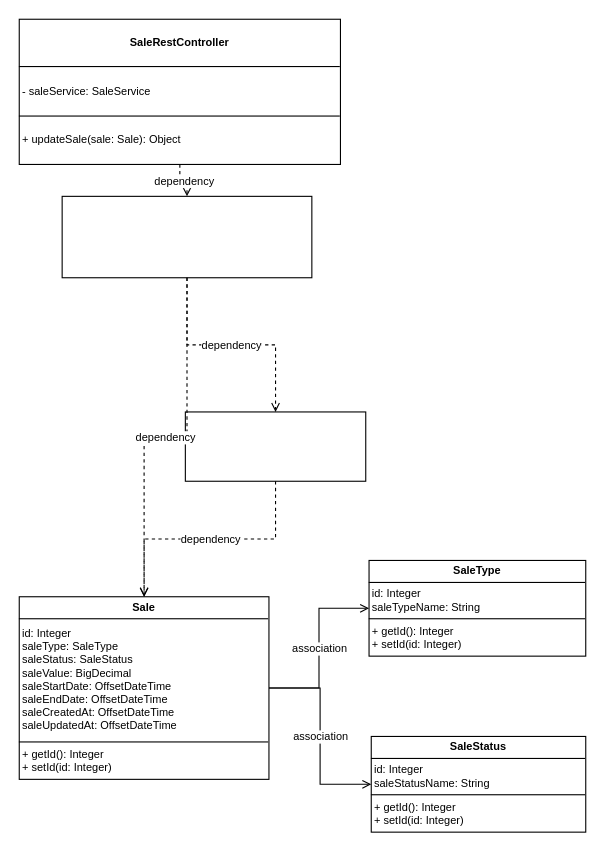
Some shapes in this 605 by 851 pixel diagram are drawn without their labels. Each missing label, with the centre of its shape:
SaleRepository + save(sale: Sale): Sale + findById(saleId: Integer): Sale: [275,446]
SaleService saleRepository: SaleRepository + updateSale(sale: Sale): Sale: [186,236]
